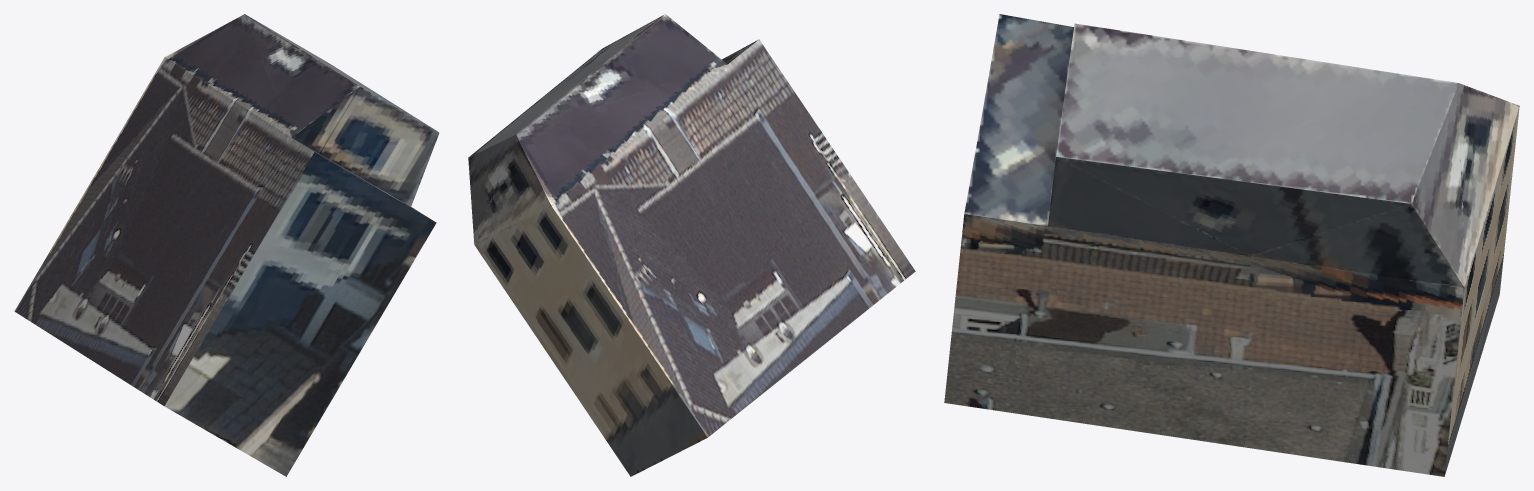
3 renders of one model, left to right at view 1: azimuth 30°, elevation 25°; view 2: azimuth 150°, elevation 25°; view 3: azimuth 270°, elevation 25°, orthographic. The views are drawn at different scales.
Parts seen in each view (by area): view 1: BAG_0599100000760479 (×2); view 2: BAG_0599100000760479 (×3); view 3: BAG_0599100000760479 (×3).
Boxes of the visible parts, box(x1,y1,x2,y2) form: BAG_0599100000760479 (×2): box(14, 14, 439, 476); BAG_0599100000760479 (×3): box(468, 14, 915, 476); BAG_0599100000760479 (×3): box(944, 14, 1519, 476).
Bounding box in the file's own units: 12.44 × 13.77 × 13.84.
Materials: 3 (3 with a texture image).
